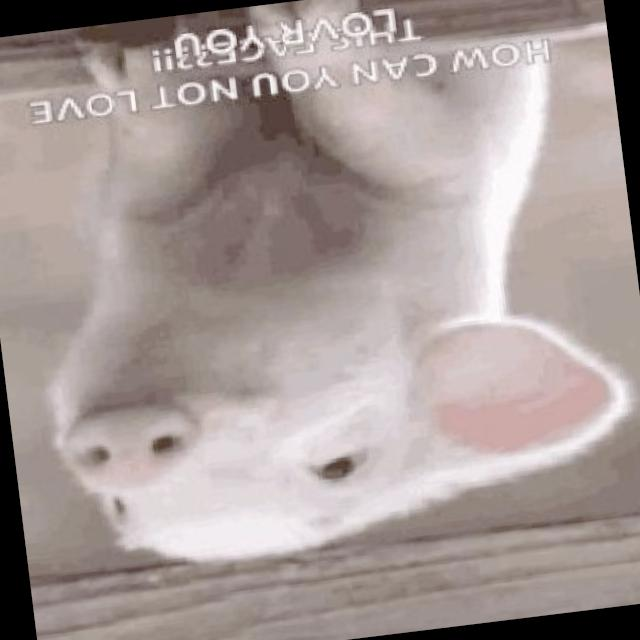pig: (49, 65, 627, 560)
